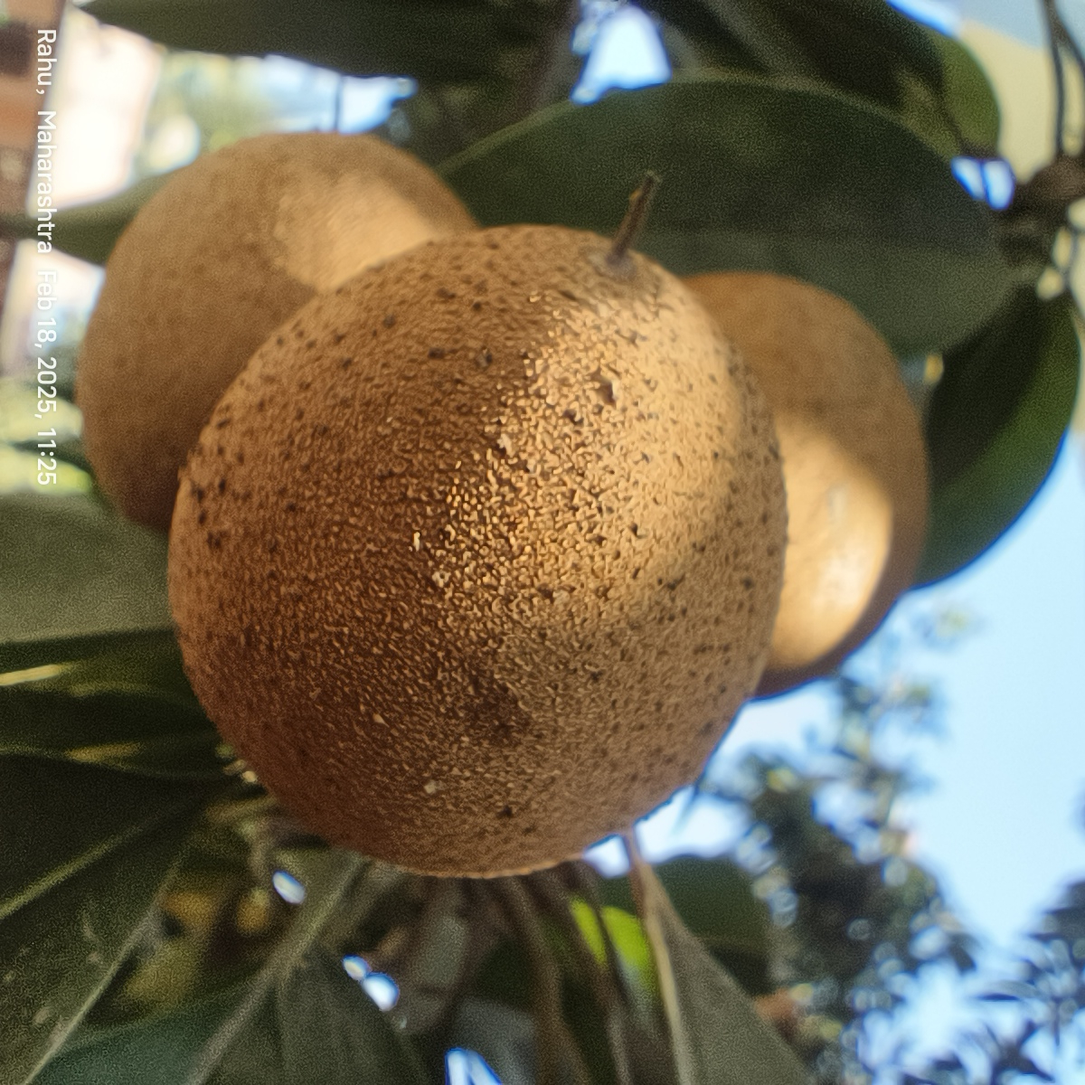matang: (341, 112, 968, 784)
